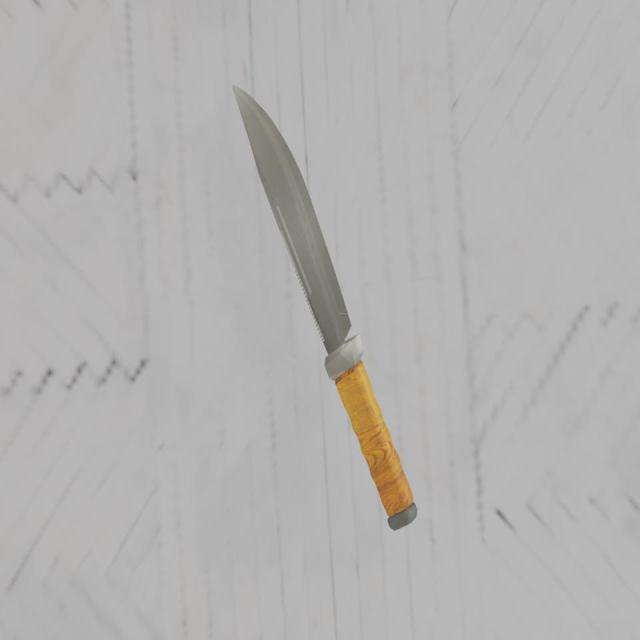knife: (329, 341, 412, 531)
